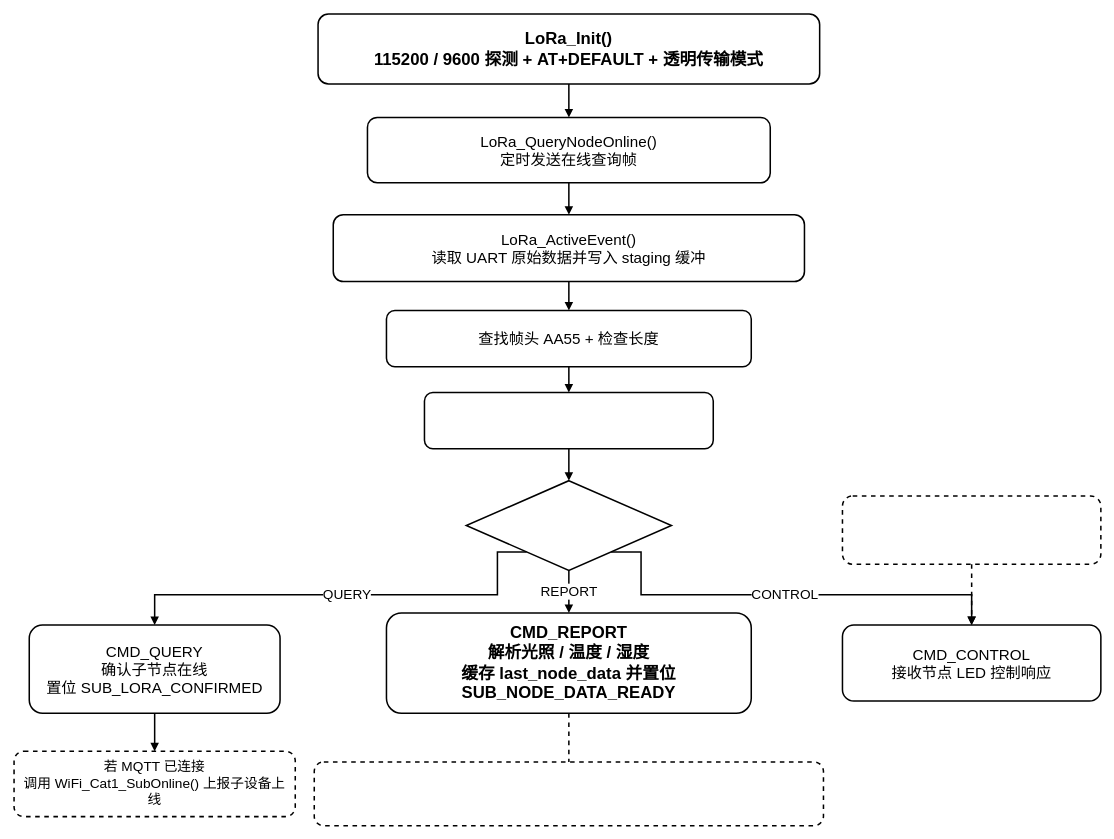
Image size: 1114x839. Some labels were removed from this diagram. The shapes that lost their labels are listed below. From the top down, each one's centre as x and y in pixels, then its label:
At (x=568, y=420): "CRC8-Maxim 校验".
At (x=568, y=525): "命令类型？".
At (x=971, y=530): "平台下发 PowerSwitch_2 LoRa_ControlNodeLED() 转发到子节点".
At (x=568, y=793): "25s 内没有有效协议帧 清除 SUB_LORA_CONFIRMED / SUB_NODE_DATA_READY".
